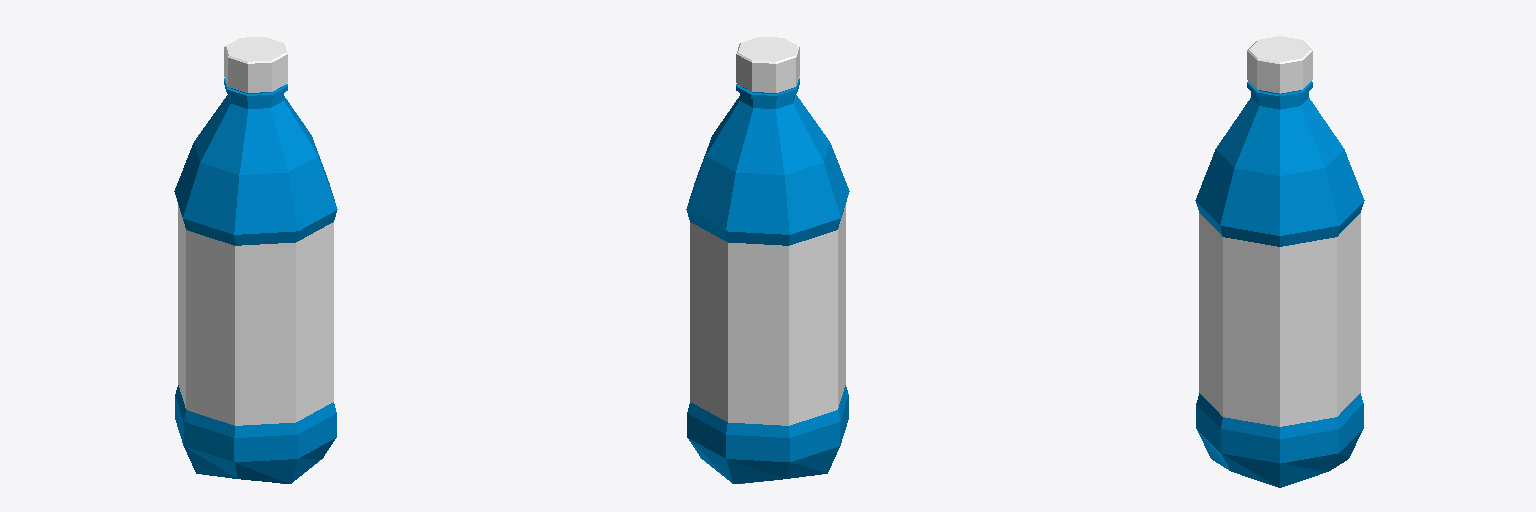
Rendered from Water_Bottle_01.obj.
3 renders of one model, left to right at view 1: azimuth 30°, elevation 25°; view 2: azimuth 150°, elevation 25°; view 3: azimuth 270°, elevation 25°, orthographic.
Visible parts, largest first — view 1: Circle.002; view 2: Circle.002; view 3: Circle.002.
Part boxes in pixels (left/top/right/bottom): Circle.002: left=174, top=37, right=337, bottom=483; Circle.002: left=686, top=37, right=849, bottom=483; Circle.002: left=1195, top=36, right=1364, bottom=487.
Size of the model in its own units: 3.69 by 9.95 by 3.69.